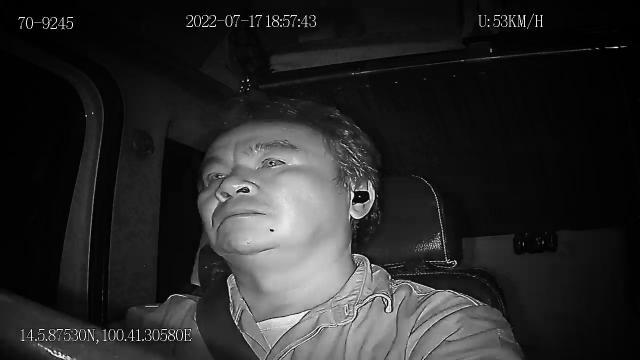SafeDriving: (254, 148, 294, 174)
Seatbelt: (193, 262, 263, 360)
